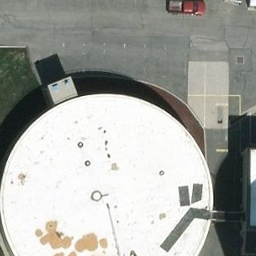car: (168, 1, 208, 17)
